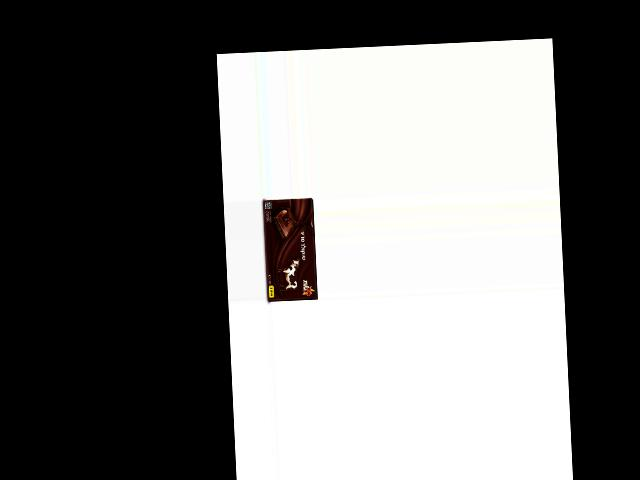chocolate: (262, 199, 318, 304)
